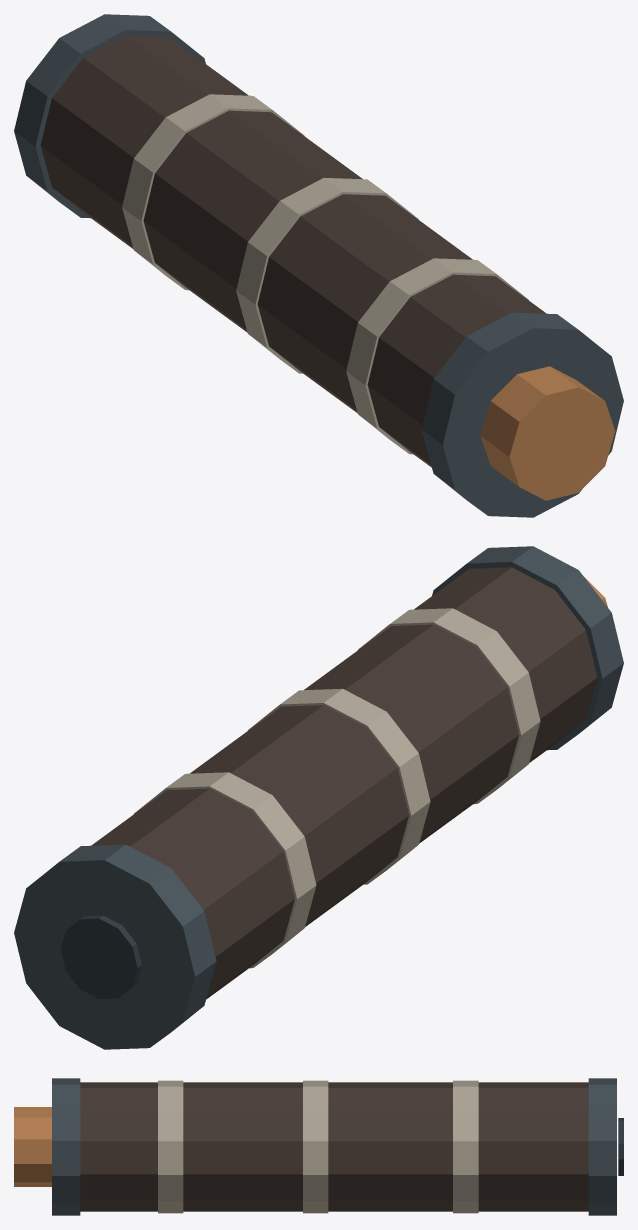
File: AEW_Suppressor_AshSleeve.fbx
3 renders of one model, top to bottom at view 1: azimuth 30°, elevation 25°; view 2: azimuth 150°, elevation 25°; view 3: azimuth 270°, elevation 25°, orthographic. The views are drawn at different scales.
Parts seen in each view (by area): view 1: AEW_Suppressor_AshSleeve; view 2: AEW_Suppressor_AshSleeve; view 3: AEW_Suppressor_AshSleeve.
Boxes of the visible parts, <box> form: AEW_Suppressor_AshSleeve: <box>14,14,623,517</box>; AEW_Suppressor_AshSleeve: <box>14,546,623,1049</box>; AEW_Suppressor_AshSleeve: <box>14,1078,623,1215</box>.
Size of the model in its own units: 0.0975 by 0.0975 by 0.432.
